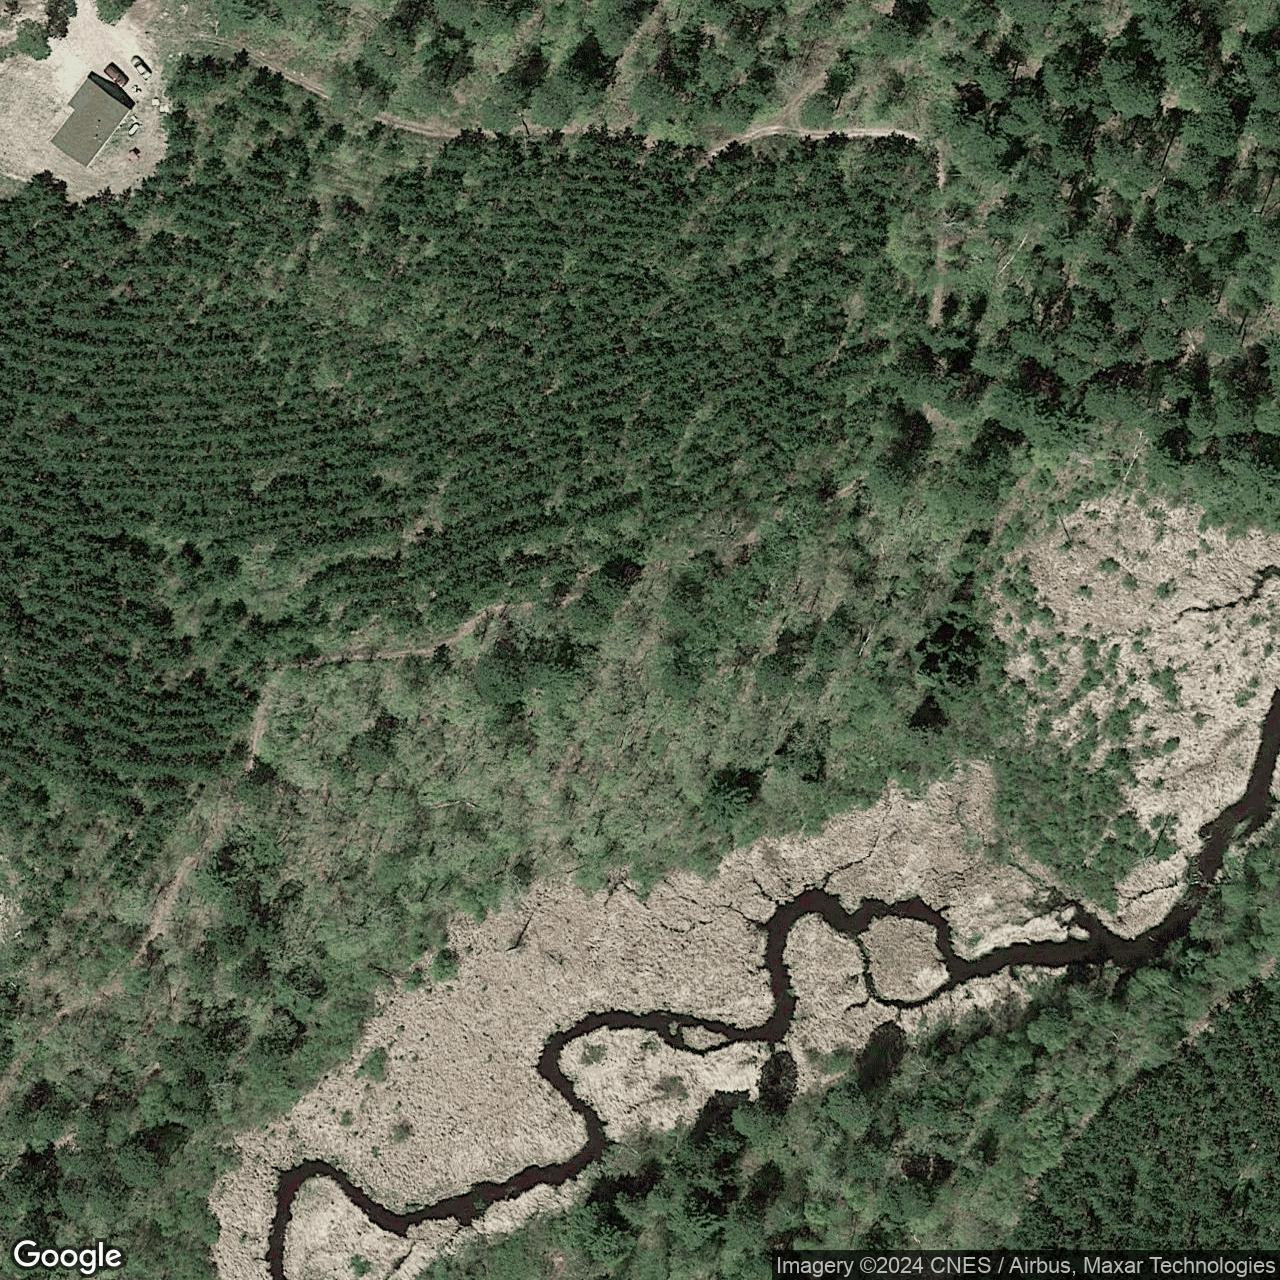House: (48, 76, 134, 170)
Propane: (125, 121, 142, 137)
